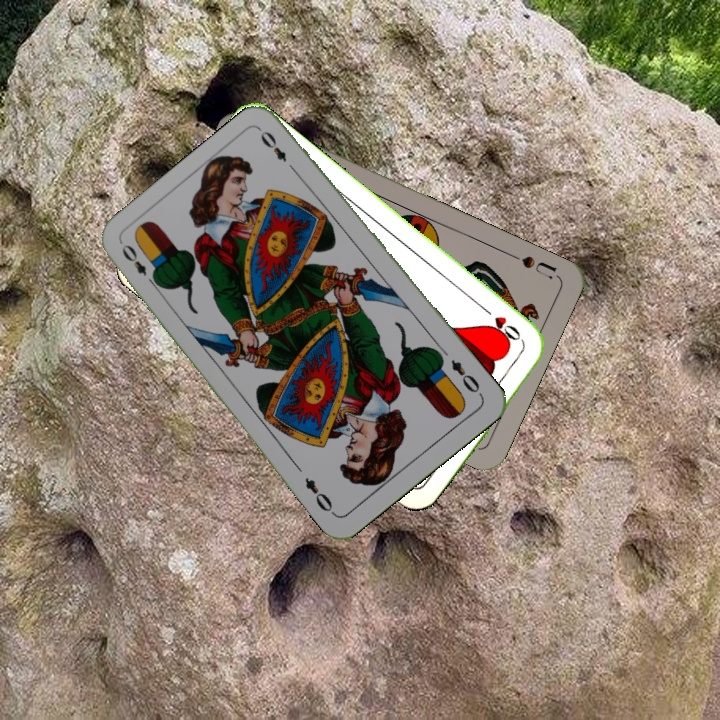EO: (117, 240, 161, 290), (446, 355, 485, 399)
HO: (480, 304, 528, 350)
SU: (504, 249, 559, 280)
